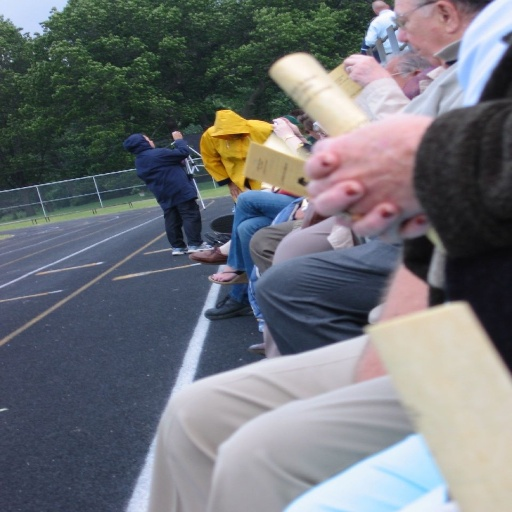hand: (302, 149, 430, 240), (342, 54, 389, 86), (269, 116, 292, 139), (275, 116, 297, 134), (227, 183, 240, 198), (169, 130, 182, 140)
